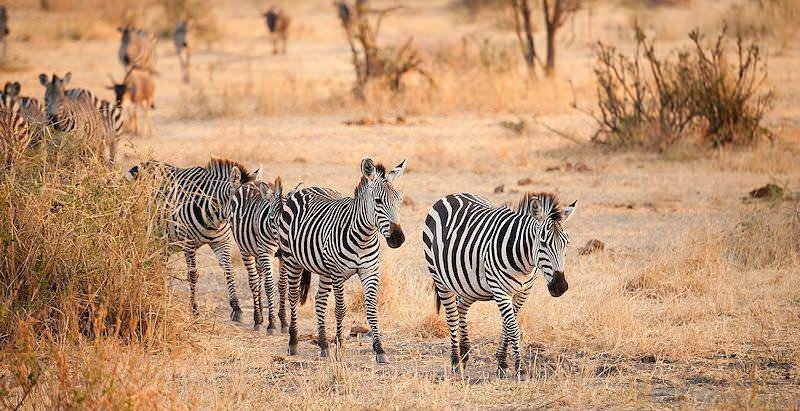zebra: (270, 157, 413, 371), (421, 188, 574, 373), (126, 158, 262, 321)
